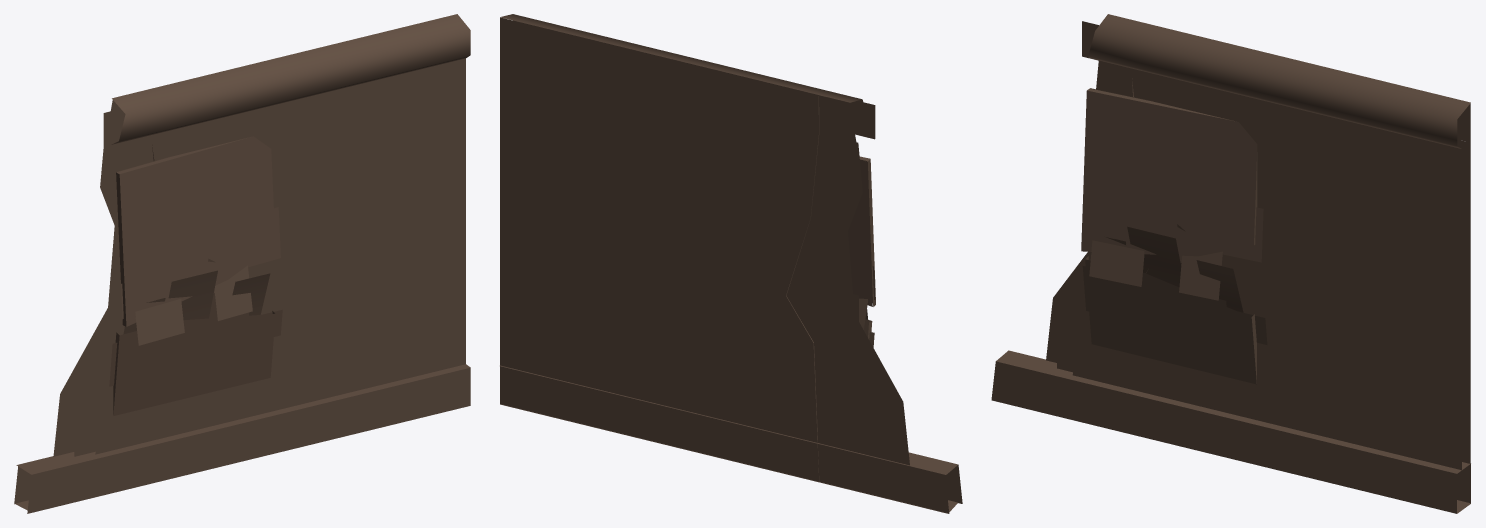
The model's file is DBK_Bottom_Molding_Side_B_Mirror.fbx.
3 views of the same model, side by side, from view 1: azimuth 30°, elevation 25°; view 2: azimuth 150°, elevation 25°; view 3: azimuth 330°, elevation 25° (orthographic). The views are drawn at different scales.
Visible parts, largest first — view 1: DBK_Bottom_Molding_Side_B_Mirror; view 2: DBK_Bottom_Molding_Side_B_Mirror; view 3: DBK_Bottom_Molding_Side_B_Mirror.
Part boxes in pixels (x1,y1,x2,y2): DBK_Bottom_Molding_Side_B_Mirror: (14,14,470,513); DBK_Bottom_Molding_Side_B_Mirror: (500,14,962,513); DBK_Bottom_Molding_Side_B_Mirror: (991,14,1470,513).
Bounding box in the file's own units: 122 × 100 × 10.93.
